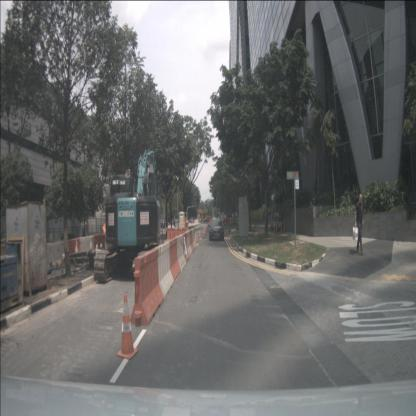barrier: (130, 245, 164, 326), (158, 242, 176, 304), (169, 237, 181, 281), (176, 236, 187, 272), (66, 238, 80, 260), (183, 232, 191, 270), (167, 228, 185, 244), (92, 234, 105, 255), (80, 236, 92, 258), (185, 230, 193, 257), (190, 228, 196, 251), (177, 223, 185, 230), (222, 219, 230, 225), (185, 223, 188, 228)
cone: (116, 295, 139, 360), (194, 232, 198, 245), (274, 222, 278, 232), (198, 228, 201, 240), (273, 222, 276, 232), (280, 222, 283, 232), (283, 222, 286, 232), (201, 228, 204, 237), (204, 226, 207, 232), (270, 221, 272, 230), (203, 227, 205, 234)
